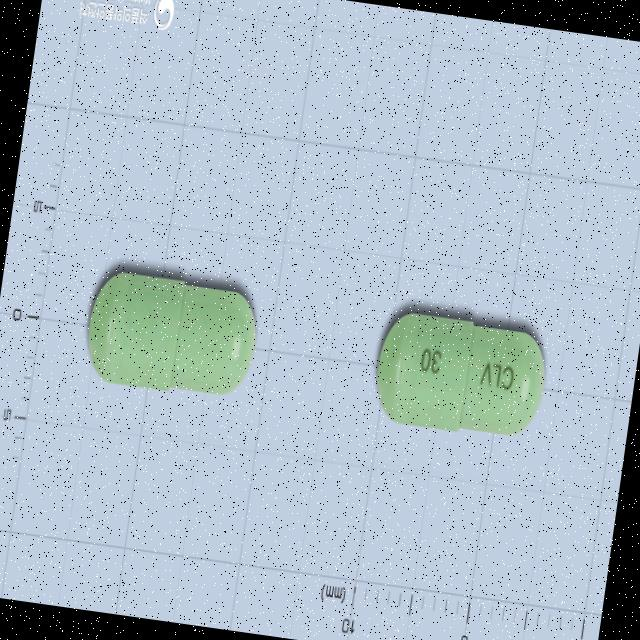Levovir Cap: (81, 268, 264, 406), (370, 308, 552, 444)
